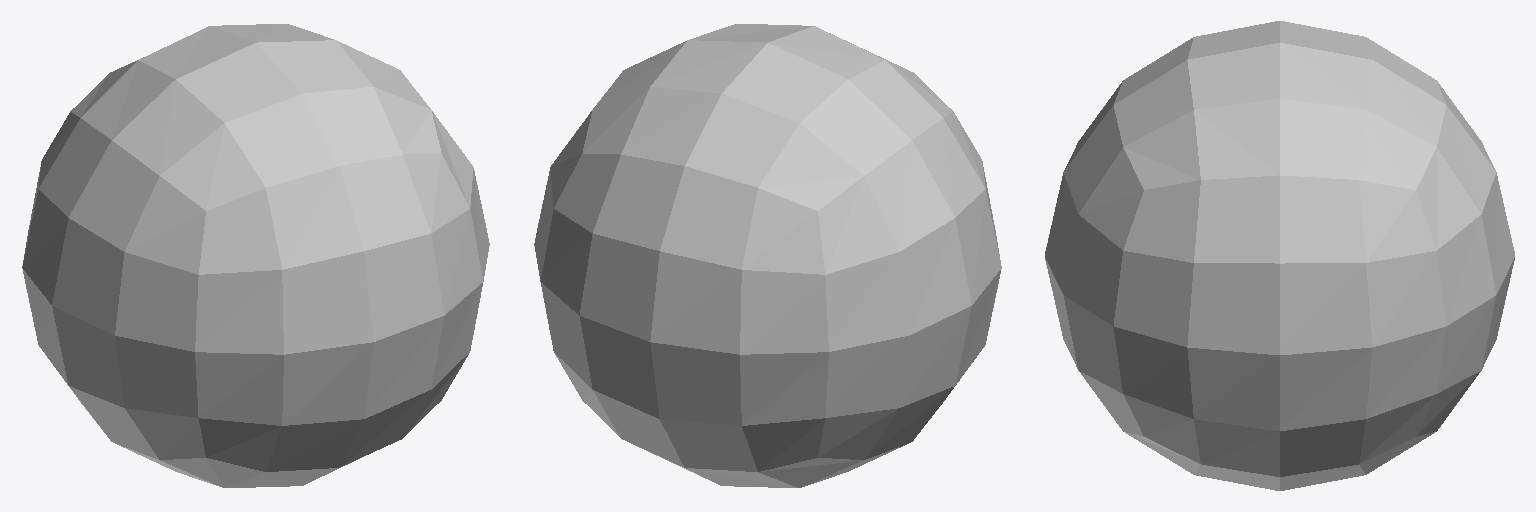
File: footballBetter.obj
3 renders of one model, left to right at view 1: azimuth 30°, elevation 25°; view 2: azimuth 150°, elevation 25°; view 3: azimuth 270°, elevation 25°, orthographic.
Parts seen in each view (by area): view 1: football; view 2: football; view 3: football.
Boxes of the visible parts, x1=… form: football: x1=22, y1=24, x2=489, y2=487; football: x1=534, y1=24, x2=1001, y2=487; football: x1=1045, y1=21, x2=1514, y2=490.
Bounding box in the file's own units: 23.13 × 23.13 × 23.13.